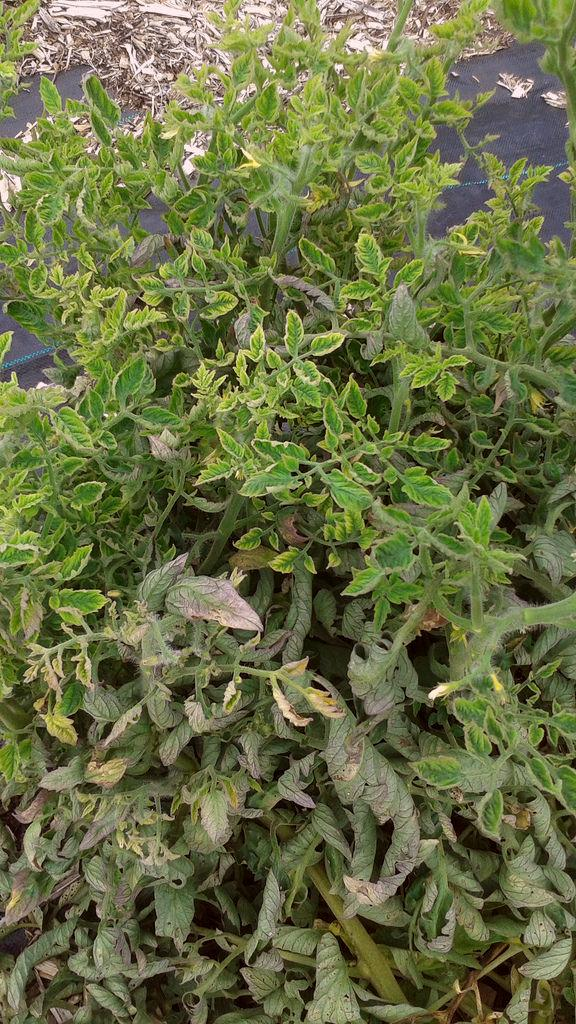Tomato leaf yellow virus: (389, 462, 459, 515), (353, 532, 418, 583), (48, 402, 103, 459), (76, 162, 120, 230), (334, 561, 393, 607), (42, 587, 109, 627), (314, 471, 376, 513), (115, 352, 154, 414), (72, 77, 124, 122), (386, 253, 427, 309), (470, 492, 496, 569), (62, 478, 116, 515), (354, 233, 391, 286), (362, 64, 398, 115), (248, 435, 297, 472), (355, 155, 400, 195), (235, 471, 297, 500), (54, 543, 97, 582), (139, 405, 189, 438), (189, 457, 236, 491), (386, 129, 422, 172), (210, 421, 246, 463), (216, 524, 269, 552), (120, 306, 169, 336), (25, 256, 52, 309), (424, 52, 448, 108), (35, 189, 71, 226), (278, 309, 306, 356), (334, 277, 376, 308), (252, 82, 282, 124), (266, 545, 308, 574), (182, 156, 228, 182), (318, 401, 347, 442), (35, 77, 66, 115), (406, 363, 445, 392), (345, 372, 369, 419), (204, 290, 237, 324), (287, 357, 320, 391), (307, 334, 346, 362), (244, 323, 270, 363), (352, 203, 398, 225), (187, 226, 213, 258)
